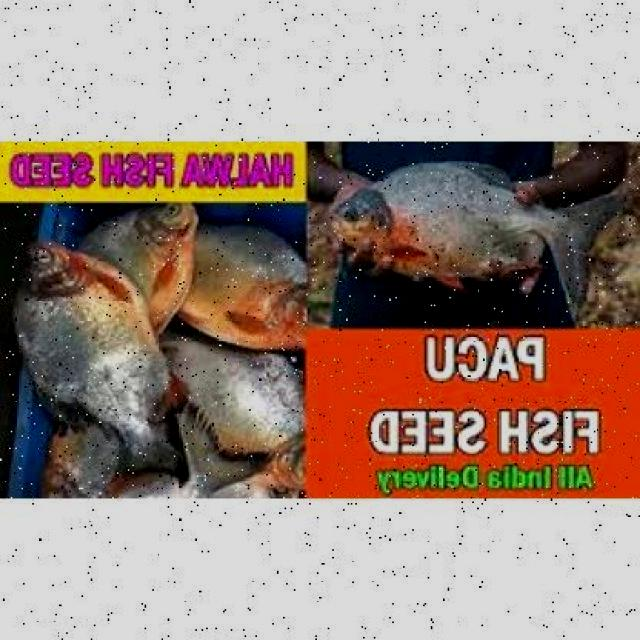ikan-pacu: (332, 154, 610, 288), (9, 238, 172, 464), (88, 198, 201, 316)
